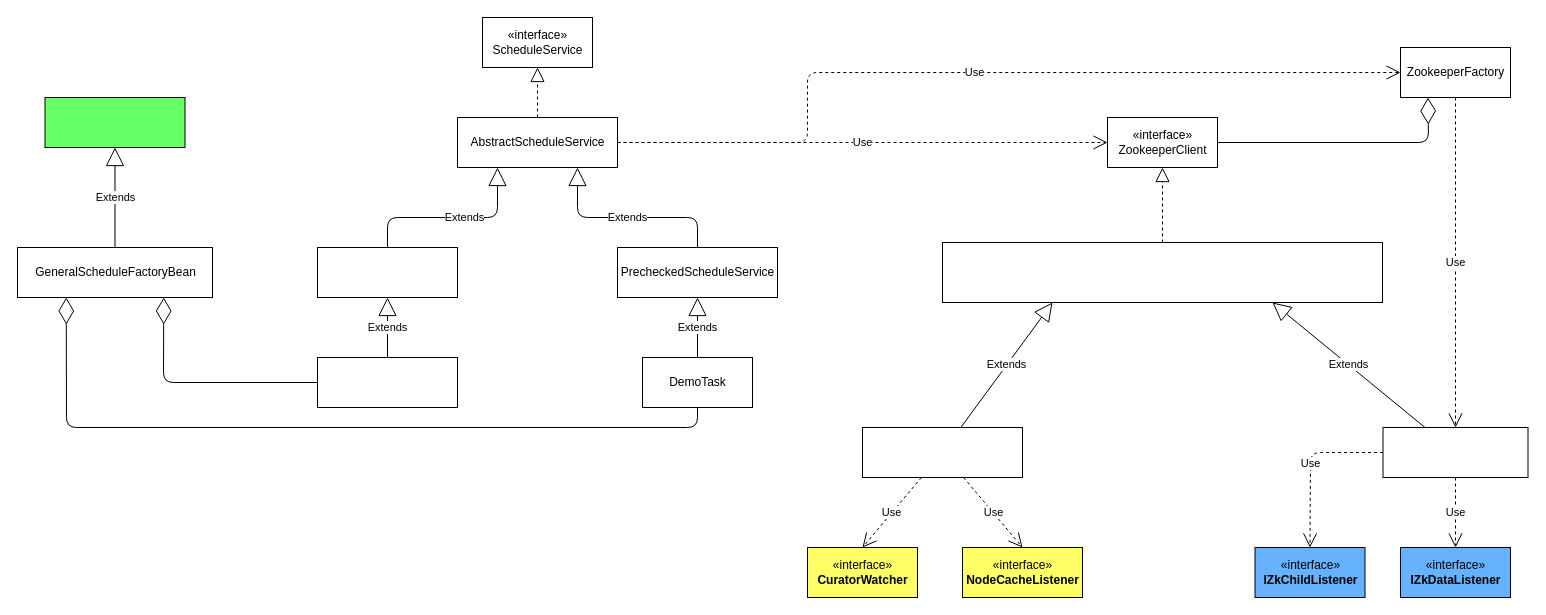
This 1546x615 diagram has some shape labels left out. The box of each missing label's shape, as (x1, y1, x2, y2) in pixels:
AbstractZookeeperClient < TargetChildListener , TargetDataChangedListener >: (942, 242, 1382, 302)
CronScheduleService: (316, 246, 458, 298)
CuratorZookeeperClient: (862, 426, 1022, 478)
LfucUserPhoneTask: (316, 356, 458, 408)
ScheduleFactoryBean: (44, 96, 185, 148)
ZkClientZookeeperClient: (1382, 426, 1528, 478)
